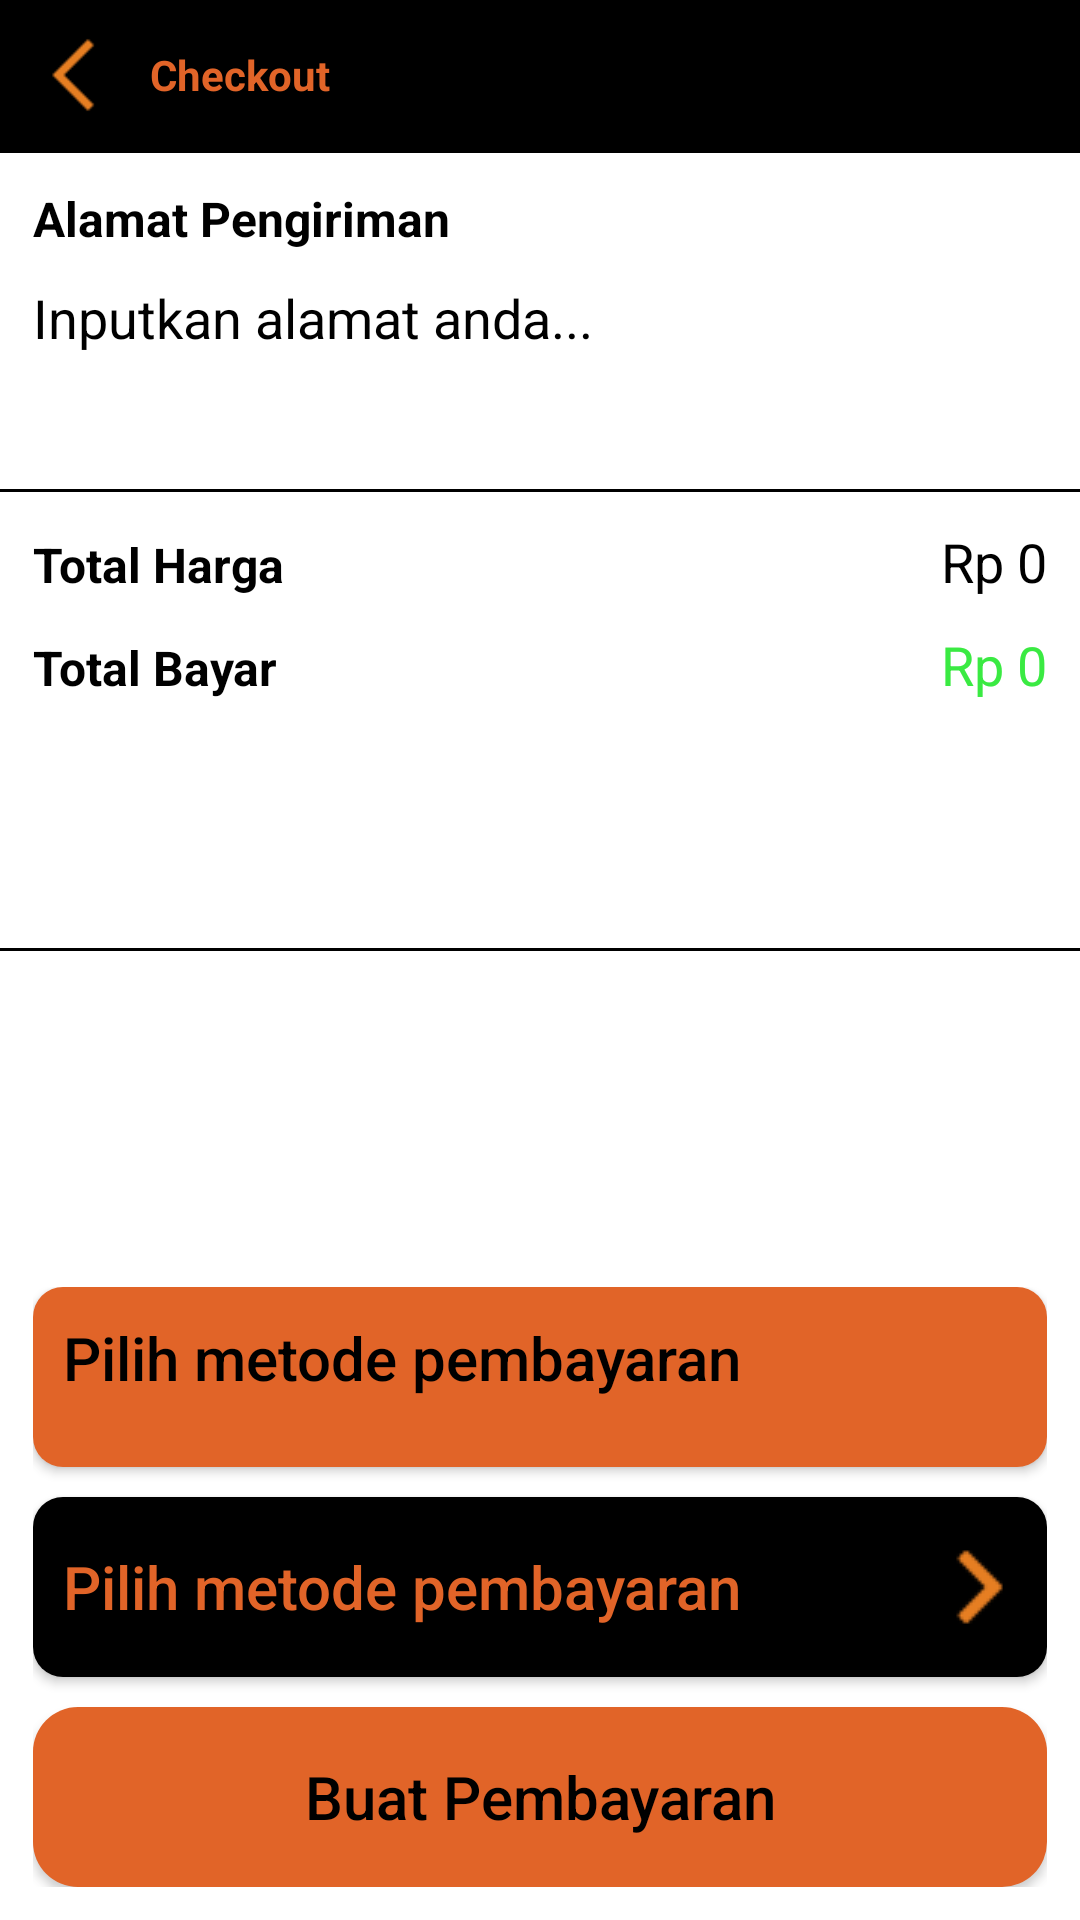

Locate icon controls on the screen. Image size 1080w x 1920h, boxes as (x1, y1, x2, y2).
back: (52, 39, 94, 111)
